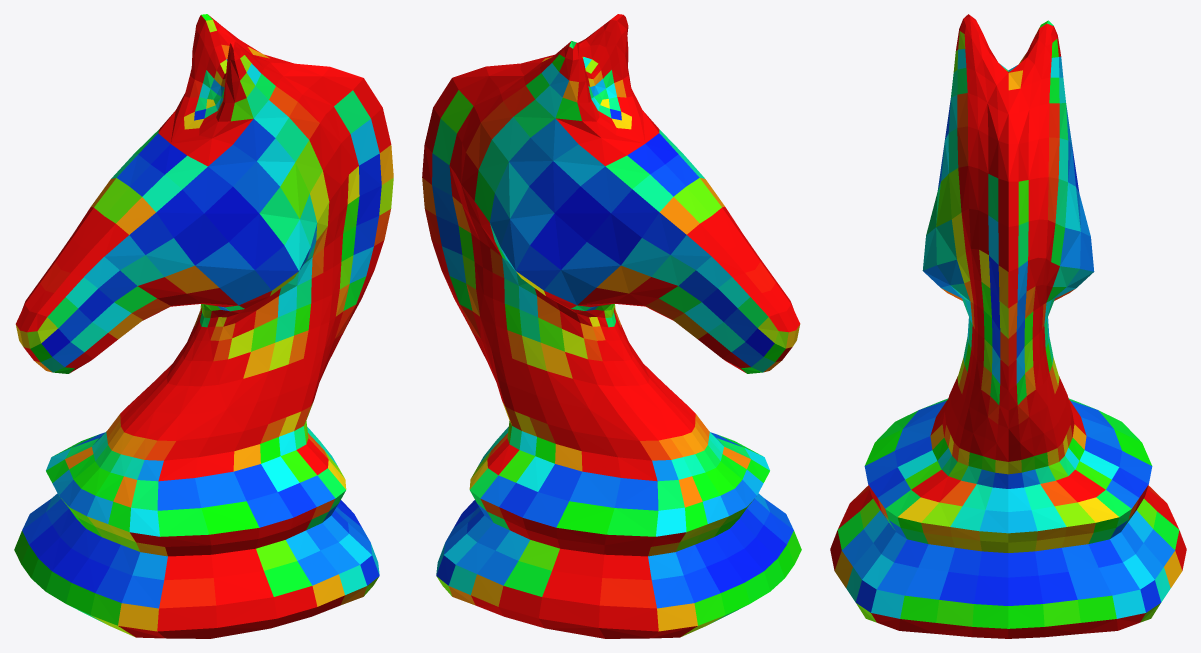
The model's file is horse03b_no_opt_quality.obj.
The picture shows the model from 3 angles, left to right: view 1: azimuth 30°, elevation 25°; view 2: azimuth 150°, elevation 25°; view 3: azimuth 270°, elevation 25°; orthographic projection. The views are drawn at different scales.
Size of the model in its own units: 3.54 by 4.91 by 2.81.
